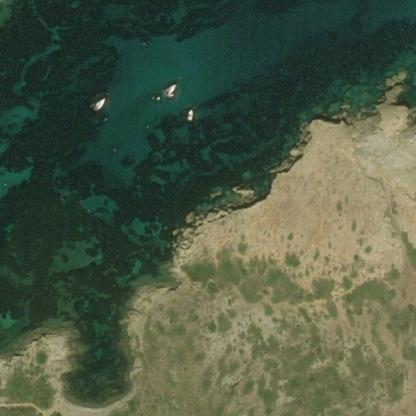ship: (150, 75, 179, 109), (80, 92, 111, 114), (184, 103, 196, 126)
